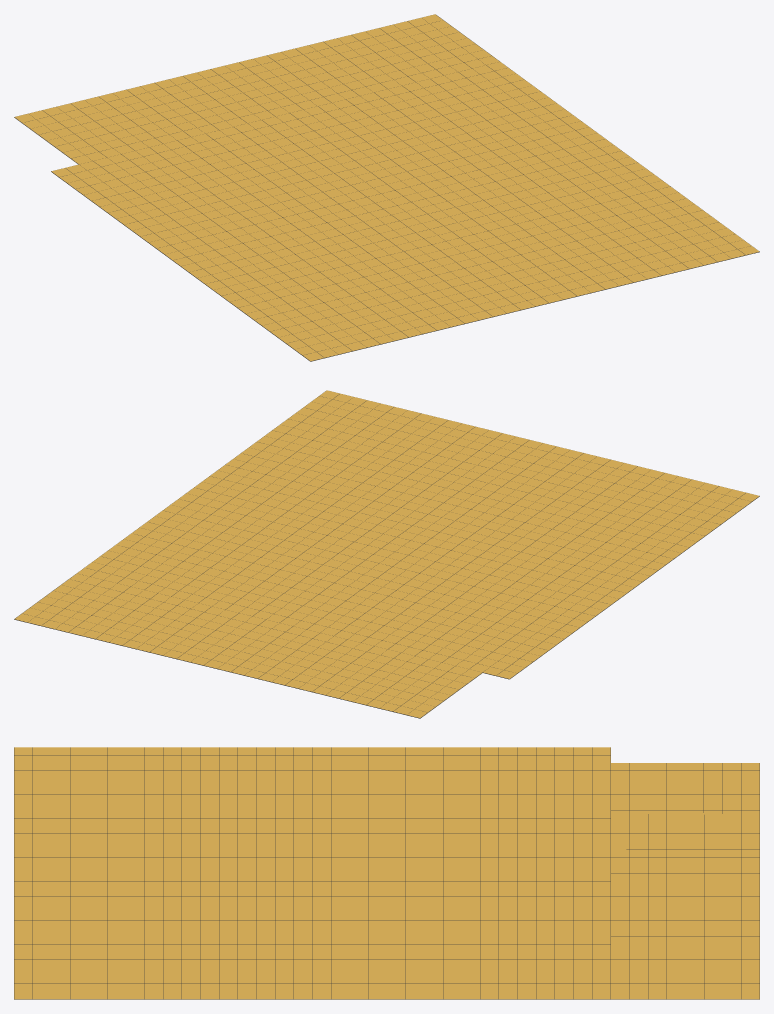
File: pavement_square_1.fbx
The picture shows the model from 3 angles, top to bottom: view 1: azimuth 30°, elevation 25°; view 2: azimuth 150°, elevation 25°; view 3: azimuth 270°, elevation 25°; orthographic projection. The views are drawn at different scales.
Parts seen in each view (by area): view 1: Plane.001; view 2: Plane.001; view 3: Plane.001.
Boxes of the visible parts, x1,y1,x2,y2 form: Plane.001: (14, 14, 759, 361); Plane.001: (14, 390, 759, 718); Plane.001: (14, 747, 759, 999).
Bounding box in the file's own units: 31.85 × 0.0277 × 39.84.
3 materials, 3 textured.
